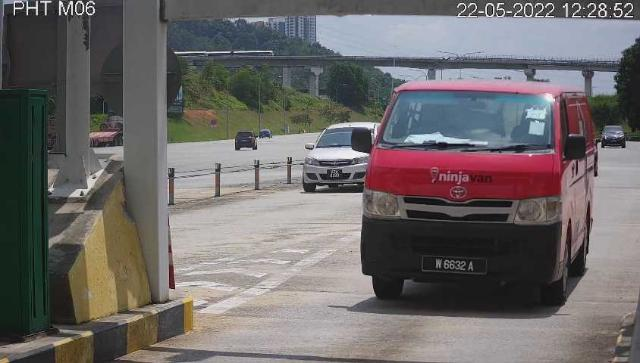License_Plate: (421, 255, 489, 279)
van: (363, 82, 595, 306)
